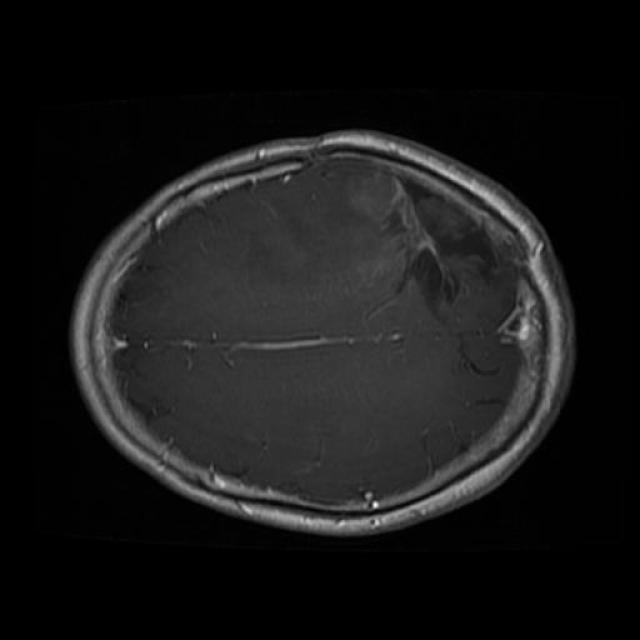Glioma: (373, 165, 501, 318)
